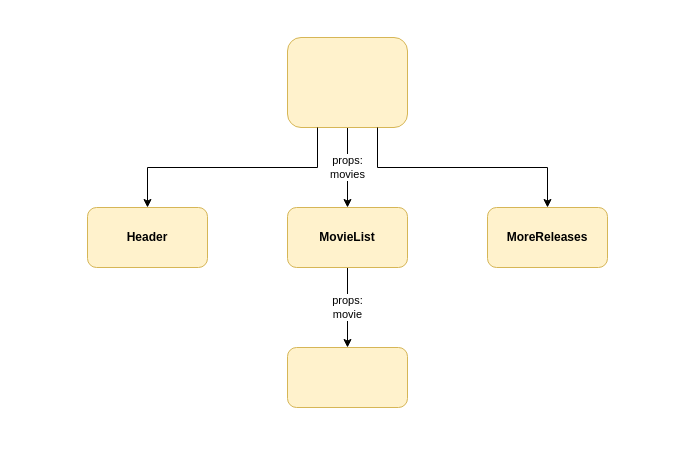
This 694x454 diagram has some shape labels left out. Each missing label, with the box of its shape:
MovieItem: (286, 346, 408, 408)
ReleaseBox state: movies: (286, 36, 408, 128)
